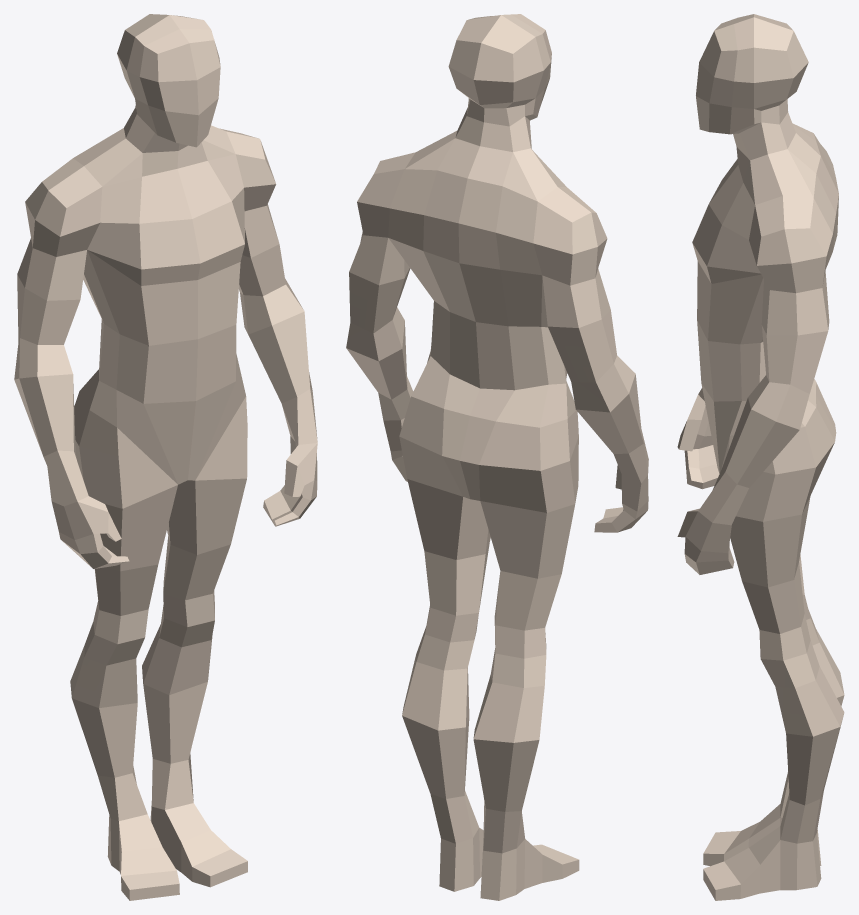
Rendered from karakter (1).fbx.
3 views of the same model, side by side, from view 1: azimuth 30°, elevation 25°; view 2: azimuth 150°, elevation 25°; view 3: azimuth 270°, elevation 25° (orthographic).
Parts seen in each view (by area): view 1: Cube.003; view 2: Cube.003; view 3: Cube.003.
Boxes of the visible parts, bbox=[...] form: Cube.003: bbox=[14, 14, 317, 900]; Cube.003: bbox=[346, 14, 648, 900]; Cube.003: bbox=[677, 14, 844, 900].
Bounding box in the file's own units: 56.9 × 167 × 29.63.
